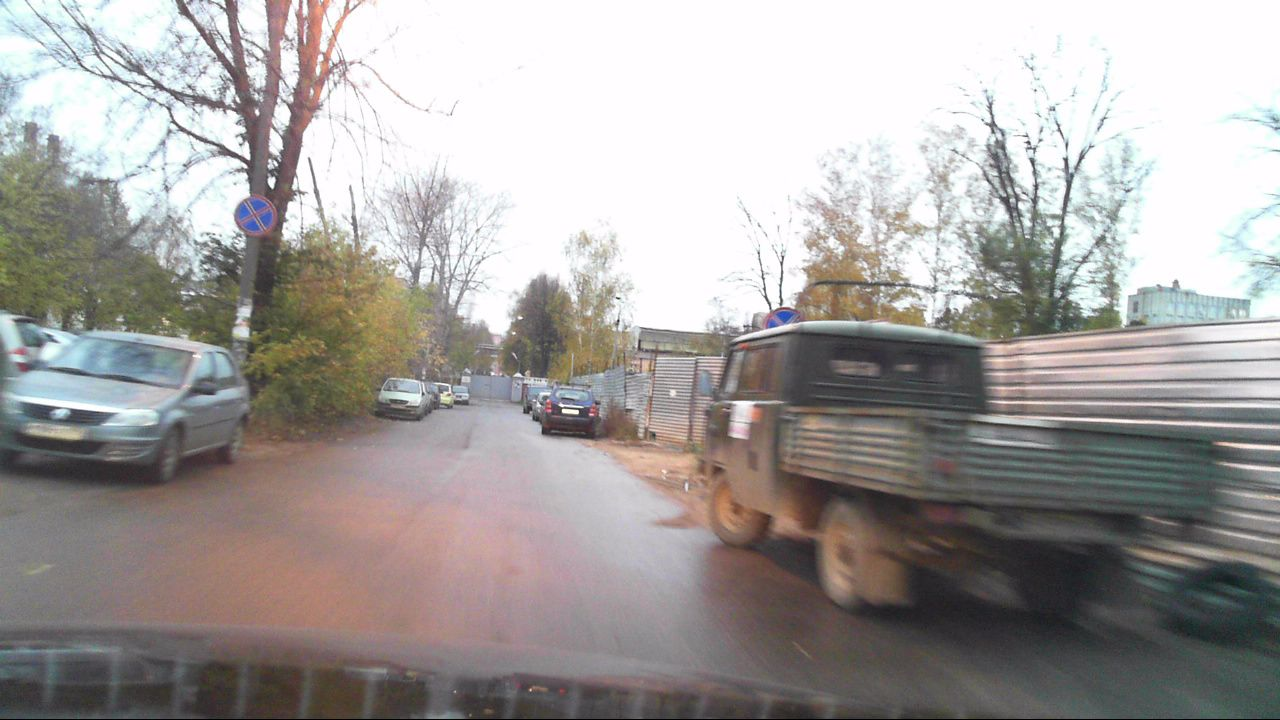No Parking: (764, 307, 802, 343)
